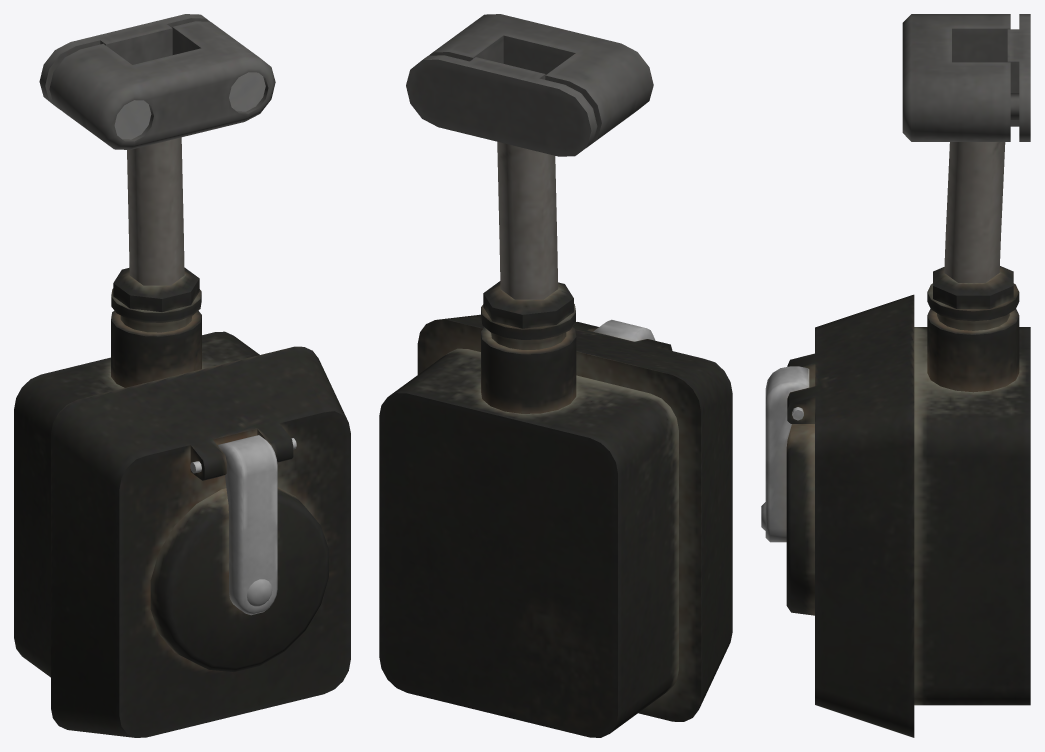
The model's file is cable_cable_plug_covered.fbx.
The picture shows the model from 3 angles, left to right: view 1: azimuth 30°, elevation 25°; view 2: azimuth 150°, elevation 25°; view 3: azimuth 270°, elevation 25°; orthographic projection. The views are drawn at different scales.
Parts seen in each view (by area): view 1: modular_electric_cables_boxes__cable_plug_covered; view 2: modular_electric_cables_boxes__cable_plug_covered; view 3: modular_electric_cables_boxes__cable_plug_covered.
Part boxes in pixels (left/top/right/bottom): modular_electric_cables_boxes__cable_plug_covered: left=14, top=14, right=350, bottom=737; modular_electric_cables_boxes__cable_plug_covered: left=379, top=14, right=732, bottom=737; modular_electric_cables_boxes__cable_plug_covered: left=761, top=14, right=1030, bottom=737.
Bounding box in the file's own units: 0.0635 × 0.1424 × 0.0546.
